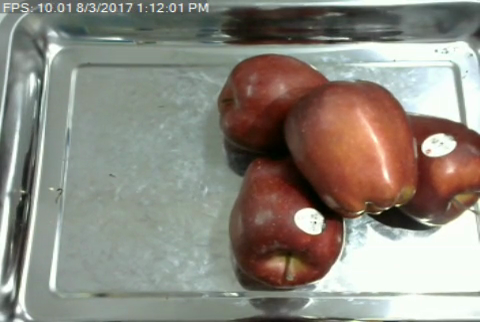Apple: (281, 78, 422, 220), (224, 152, 346, 291), (213, 52, 329, 153), (391, 112, 480, 228)
